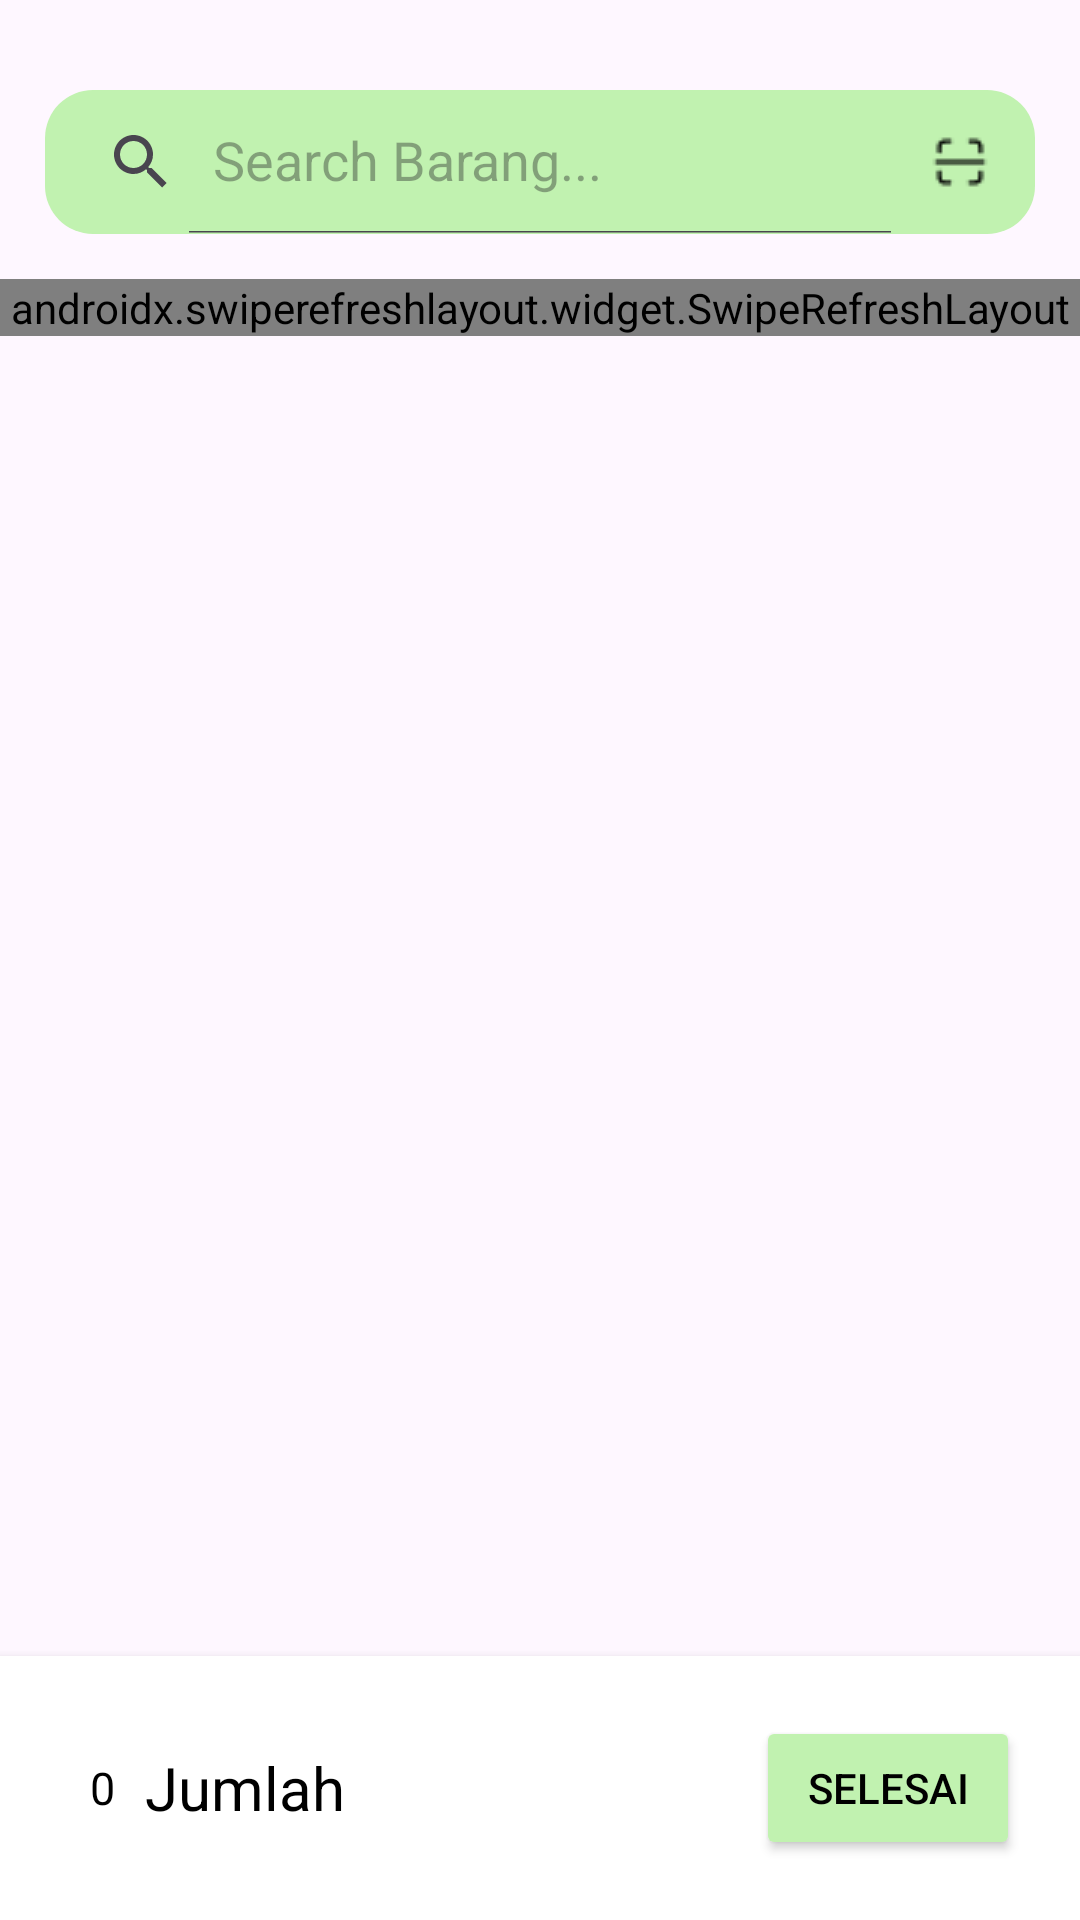

Icon click points for this 1080×1920 phone screenshot, format point (x, y):
scan qr: point (960, 162)
